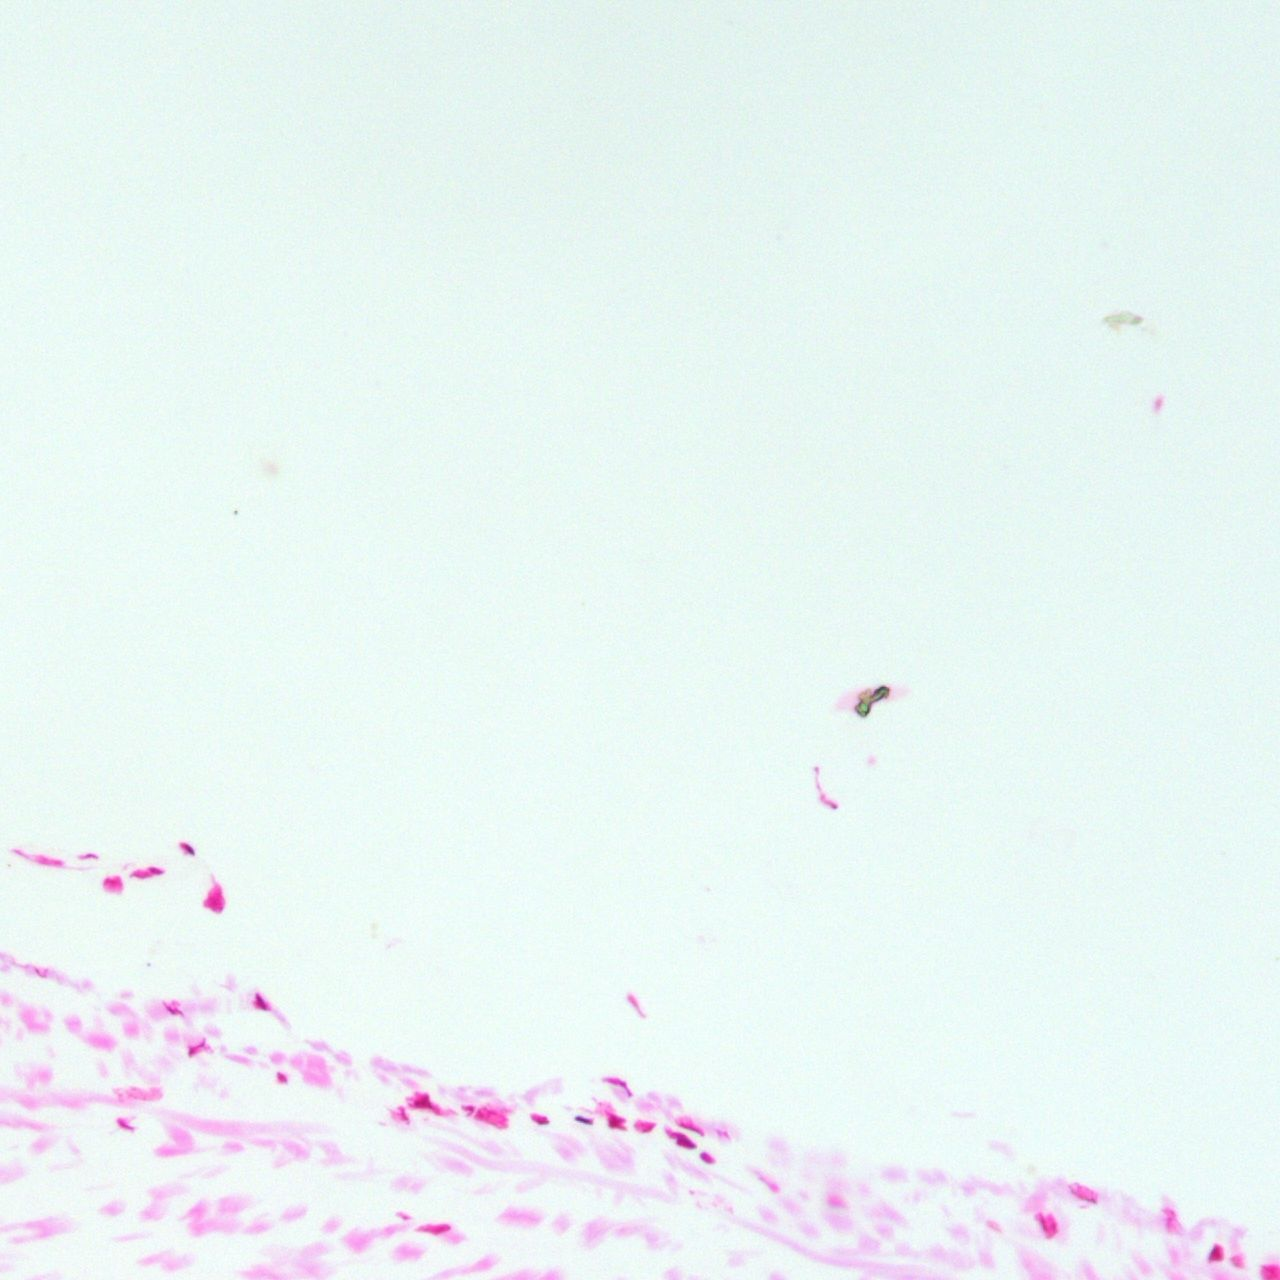dust: (849, 675, 893, 720), (234, 510, 237, 514)
nucleus-FG: (601, 1071, 638, 1098), (664, 1126, 697, 1153), (1035, 1208, 1061, 1239), (677, 1118, 705, 1139), (248, 991, 270, 1013), (185, 1037, 209, 1057), (113, 1114, 136, 1134), (159, 1001, 183, 1018), (416, 1223, 450, 1234), (412, 1092, 432, 1110), (178, 840, 197, 858), (697, 1149, 715, 1166), (608, 1114, 627, 1129), (1208, 1243, 1222, 1262), (128, 869, 151, 880), (531, 1112, 550, 1125), (635, 1119, 654, 1132), (398, 1107, 408, 1123), (574, 1116, 593, 1124), (149, 866, 165, 875), (276, 1071, 287, 1083), (79, 853, 97, 859)
